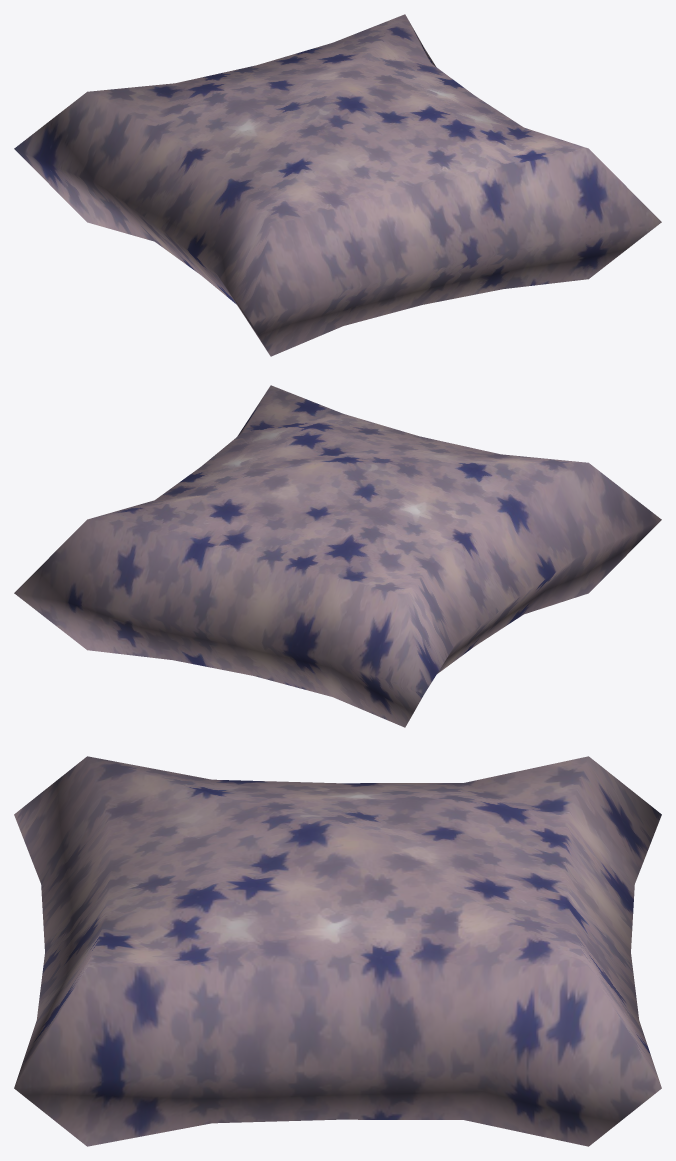
File: pillow3.fbx
The picture shows the model from 3 angles, top to bottom: view 1: azimuth 30°, elevation 25°; view 2: azimuth 150°, elevation 25°; view 3: azimuth 270°, elevation 25°; orthographic projection. The views are drawn at different scales.
Parts seen in each view (by area): view 1: Cube; view 2: Cube; view 3: Cube.
Part boxes in pixels (box(x1,y1,x2,y2)): Cube: box(14, 14, 661, 356); Cube: box(14, 385, 661, 727); Cube: box(14, 756, 661, 1146).
Size of the model in its own units: 766 by 310 by 766.
